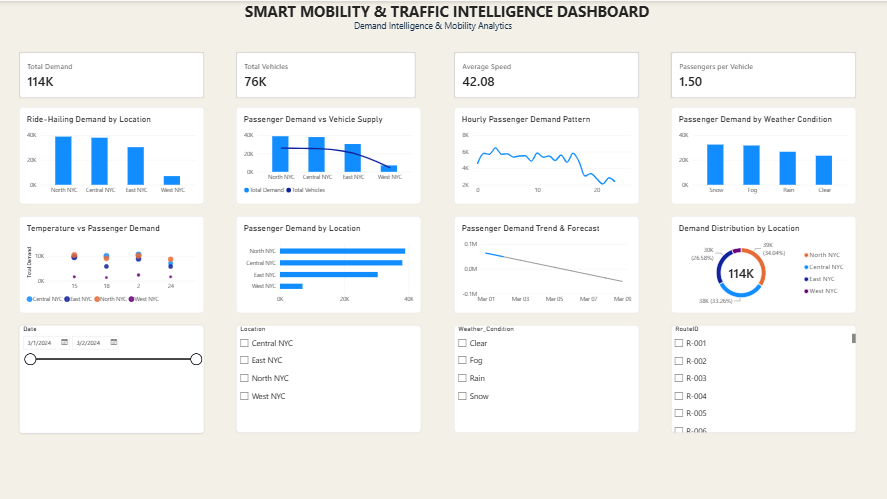

This screenshot's page, from the dashboard's own definition file:
{"tool":"powerbi","page":{"name":"Page 2","canvas":[1920,1080],"ordinal":1},"visuals":[{"type":"textbox","box":[30,10,1860,45],"z":0},{"type":"textbox","box":[30,55,1860,25],"z":1000},{"type":"slicer","fields":{"Values":["DimDate.Date"]},"box":[30,90,350,45],"z":2000},{"type":"slicer","fields":{"Values":["FactTraffic.Time"]},"box":[410,90,350,45],"z":3000},{"type":"slicer","fields":{"Values":["DimRoute.Route ID"]},"box":[790,90,350,45],"z":4000},{"type":"slicer","fields":{"Values":["DimLocation.Location"]},"box":[1170,90,350,45],"z":5000},{"type":"slicer","fields":{"Values":["DimWeather.Weather"]},"box":[1550,90,340,45],"z":6000},{"type":"cardVisual","fields":{"Data":["Sum(FactTraffic.Vehicle_Count)"]},"box":[30,150,450,90],"z":7000},{"type":"cardVisual","fields":{"Data":["Sum(FactTraffic.Passenger Count)"]},"box":[510,150,450,90],"z":8000},{"type":"cardVisual","fields":{"Data":["FactTraffic.Reliability %"]},"box":[990,150,430,90],"z":9000},{"type":"cardVisual","fields":{"Data":["DimDate.Disruptions"]},"box":[1450,150,440,90],"z":10000},{"type":"clusteredBarChart","title":"PASSENGER DEMAND BY LOCATION","fields":{"Category":["DimLocation.Location"],"Y":["Sum(FactTraffic.Passenger Count)"]},"box":[30,260,600,145],"z":11000},{"type":"clusteredColumnChart","title":"TOP ROUTES BY PASSENGER","fields":{"Category":["FactTraffic.RouteID"],"Y":["Sum(FactTraffic.Passenger Count)"]},"box":[650,260,600,145],"z":12000},{"type":"lineClusteredColumnComboChart","title":"ROUTE PERFORMANCE & DEMAND","fields":{"Category":["FactTraffic.RouteID"],"Y":["Sum(FactTraffic.Passenger Count)"],"Y2":["Sum(FactTraffic.Average Speed)"]},"box":[30,420,600,146],"z":13000},{"type":"donutChart","title":"PASSENGER DEMAND BY WEATHER","fields":{"Category":["DimWeather.Weather"],"Y":["Sum(FactTraffic.Passenger Count)"]},"box":[650,420,600,145],"z":14000},{"type":"lineChart","title":"PASSENGER DEMAND OVER TIME","fields":{"Category":["FactTraffic.Date"],"Y":["Sum(FactTraffic.Passenger Count)"]},"box":[30,580,600,150],"z":15000},{"type":"clusteredBarChart","title":"GEOGRAPHIC DRILL-DOWN ANALYSIS","fields":{"Category":["FactTraffic.Location","FactTraffic.RouteID"],"Y":["Sum(FactTraffic.Passenger Count)"]},"box":[30,750,1230,300],"z":16000},{"type":"scatterChart","title":"RAINFALL VS AVERAGE SPEED","fields":{"Series":["DimWeather.Weather"],"Size":["Sum(FactTraffic.Passenger Count)"],"X":["Sum(FactTraffic.Rainfall)"],"Y":["Sum(FactTraffic.Average Speed)"]},"box":[650,580,600,150],"z":18000},{"type":"heatmapF244EA9EE1F34E828A80CF19B41976F8","title":"MOBILITY DEMAND HEATMAP","fields":{"location":["FactTraffic.Location"],"latitude":["Avg(FactTraffic.Latitude)"],"longitude":["Avg(FactTraffic.Longitude)"],"value":["Sum(FactTraffic.Passenger Count)"]},"box":[1280,260,610,790],"z":19000}]}

Visuals, with their boxes in screenshot pixels (x1, y1, x2, y2), scaled from the page's 1920x1080 canvas onto the 887x499 screenshot:
textbox: 14/5/873/25
textbox: 14/25/873/37
slicer - DimDate.Date: 14/42/176/62
slicer - FactTraffic.Time: 189/42/351/62
slicer - DimRoute.Route ID: 365/42/527/62
slicer - DimLocation.Location: 541/42/702/62
slicer - DimWeather.Weather: 716/42/873/62
cardVisual - Sum(FactTraffic.Vehicle_Count): 14/69/222/111
cardVisual - Sum(FactTraffic.Passenger Count): 236/69/444/111
cardVisual - FactTraffic.Reliability %: 457/69/656/111
cardVisual - DimDate.Disruptions: 670/69/873/111
"PASSENGER DEMAND BY LOCATION" clusteredBarChart: 14/120/291/187
"TOP ROUTES BY PASSENGER" clusteredColumnChart: 300/120/577/187
"ROUTE PERFORMANCE & DEMAND" lineClusteredColumnComboChart: 14/194/291/262
"PASSENGER DEMAND BY WEATHER" donutChart: 300/194/577/261
"PASSENGER DEMAND OVER TIME" lineChart: 14/268/291/337
"GEOGRAPHIC DRILL-DOWN ANALYSIS" clusteredBarChart: 14/347/582/485
"RAINFALL VS AVERAGE SPEED" scatterChart: 300/268/577/337
"MOBILITY DEMAND HEATMAP" heatmapF244EA9EE1F34E828A80CF19B41976F8: 591/120/873/485
